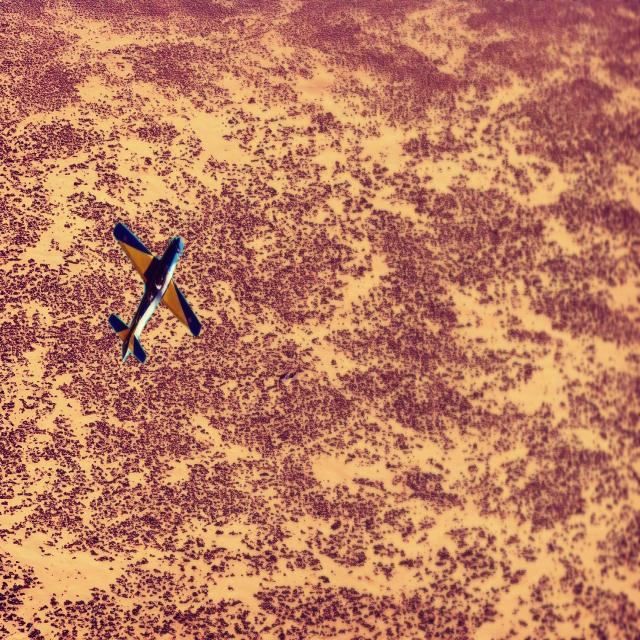airplane: (108, 220, 201, 364)
